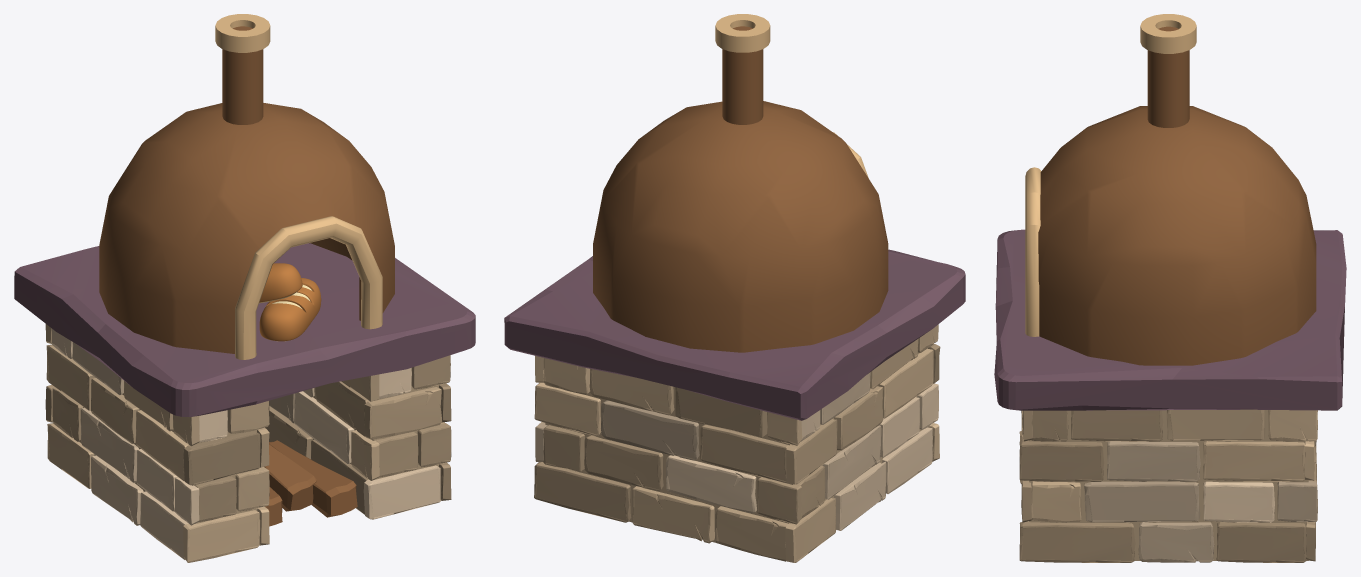
File: oven.glb
The picture shows the model from 3 angles, left to right: view 1: azimuth 30°, elevation 25°; view 2: azimuth 150°, elevation 25°; view 3: azimuth 270°, elevation 25°; orthographic projection. The views are drawn at different scales.
Visible parts, largest first — view 1: Oven brick base | Bricks, Oven dome, Oven table, Oven Mouth arch, Oven Log 3, baguette | Material.012, Oven Flue cap, Oven brick base | Beige stone; view 2: Oven dome, Oven brick base | Bricks, Oven table, Oven Flue cap, Oven brick base | Beige stone; view 3: Oven dome, Oven brick base | Bricks, Oven table, Oven brick base | Beige stone, Oven Mouth arch, Oven Flue cap.
Boxes of the visible parts, box(x1,y1,x2,y2) form: Oven brick base | Bricks: box(45, 324, 451, 562); Oven dome: box(99, 26, 394, 353); Oven table: box(14, 243, 475, 416); Oven Mouth arch: box(235, 216, 382, 359); Oven Log 3: box(264, 440, 357, 526); baguette | Material.012: box(259, 263, 321, 341); Oven Flue cap: box(215, 14, 270, 52); Oven brick base | Beige stone: box(79, 377, 440, 523); Oven dome: box(593, 26, 888, 352); Oven brick base | Bricks: box(534, 324, 940, 562); Oven table: box(504, 249, 965, 420); Oven Flue cap: box(715, 14, 770, 52); Oven brick base | Beige stone: box(545, 352, 921, 542); Oven dome: box(1038, 26, 1316, 365); Oven brick base | Bricks: box(1019, 409, 1317, 562); Oven table: box(994, 229, 1346, 410); Oven brick base | Beige stone: box(1029, 410, 1308, 560); Oven Mouth arch: box(1025, 167, 1041, 336); Oven Flue cap: box(1140, 14, 1196, 53).
Bounding box in the file's own units: 1.75 × 2.49 × 1.69.
